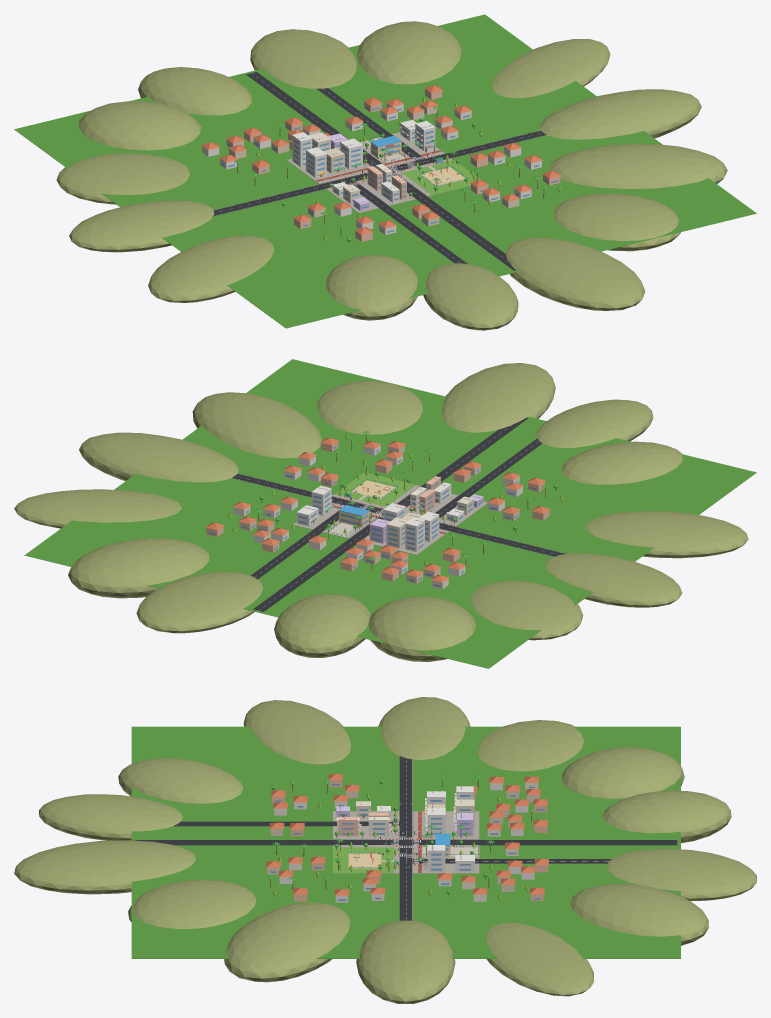
The model's file is city_env.glb.
The picture shows the model from 3 angles, top to bottom: view 1: azimuth 30°, elevation 25°; view 2: azimuth 150°, elevation 25°; view 3: azimuth 270°, elevation 25°; orthographic projection. The views are drawn at different scales.
Visible parts, largest first — view 1: Ground_Grass, Hill_11, Hill_13, Road_Asphalt, Hill_00, Hill_08, Hill_12, Hill_07, Hill_02, Hill_10, Hill_03, Hill_06 (+10 smaller); view 2: Ground_Grass, Hill_02, Hill_13, Hill_11, Hill_00, Hill_03, Hill_08, Road_Asphalt, Hill_05, Hill_07, Hill_04, Hill_01 (+9 smaller); view 3: Ground_Grass, Hill_13, Hill_11, Road_Asphalt, Hill_00, Hill_02, Hill_03, Hill_01, Hill_10, Hill_08, Hill_05, Hill_12 (+9 smaller).
Part boxes in pixels (left/top/right/bottom): Ground_Grass: left=14, top=14, right=756, bottom=328; Hill_11: left=506, top=238, right=645, bottom=310; Hill_13: left=549, top=143, right=727, bottom=188; Road_Asphalt: left=213, top=72, right=546, bottom=270; Hill_00: left=539, top=89, right=701, bottom=139; Hill_08: left=148, top=235, right=274, bottom=302; Hill_12: left=553, top=193, right=680, bottom=251; Hill_07: left=69, top=200, right=214, bottom=252; Hill_02: left=357, top=21, right=461, bottom=84; Hill_10: left=423, top=263, right=518, bottom=330; Hill_03: left=250, top=29, right=356, bottom=88; Hill_06: left=56, top=153, right=189, bottom=204; Ground_Grass: left=24, top=359, right=756, bottom=668; Hill_02: left=68, top=538, right=209, bottom=598; Hill_13: left=192, top=392, right=321, bottom=458; Hill_11: left=441, top=363, right=555, bottom=432; Hill_00: left=79, top=432, right=238, bottom=482; Hill_03: left=136, top=571, right=263, bottom=633; Hill_08: left=585, top=511, right=748, bottom=558; Road_Asphalt: left=232, top=418, right=566, bottom=611; Hill_05: left=368, top=596, right=475, bottom=661; Hill_07: left=545, top=553, right=682, bottom=607; Hill_04: left=274, top=594, right=370, bottom=657; Hill_01: left=14, top=489, right=181, bottom=528; Ground_Grass: left=131, top=726, right=680, bottom=958; Hill_13: left=224, top=902, right=350, bottom=982; Hill_11: left=14, top=840, right=195, bottom=894; Road_Asphalt: left=135, top=756, right=677, bottom=920; Hill_00: left=356, top=920, right=455, bottom=1003; Hill_02: left=570, top=884, right=708, bottom=945; Hill_03: left=607, top=848, right=756, bottom=901; Hill_01: left=486, top=923, right=593, bottom=996; Hill_10: left=39, top=794, right=182, bottom=840; Hill_08: left=243, top=700, right=350, bottom=764; Hill_05: left=561, top=747, right=684, bottom=798; Hill_12: left=128, top=879, right=256, bottom=928.
Bounding box in the file's own units: 392 × 46.7 × 406.
